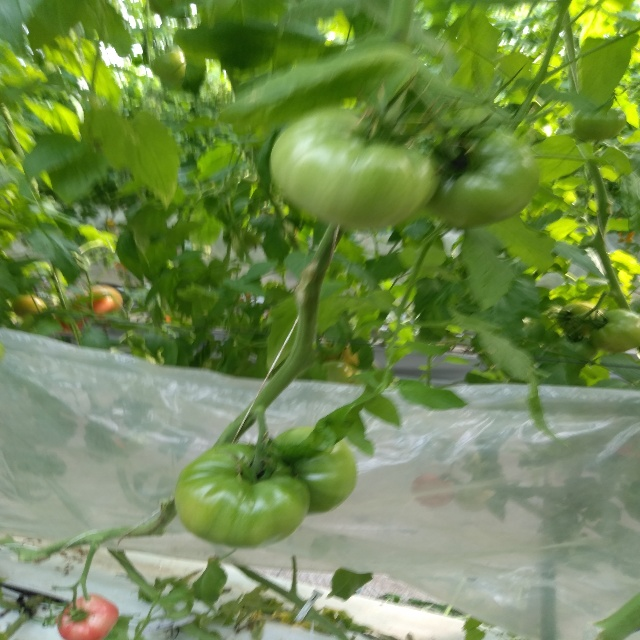b_green: (270, 109, 442, 229), (174, 444, 310, 551), (427, 129, 539, 229), (269, 427, 358, 516), (587, 309, 639, 354), (572, 108, 626, 141), (557, 303, 601, 338), (554, 334, 598, 362)
b_half_ripened: (55, 594, 120, 640)
